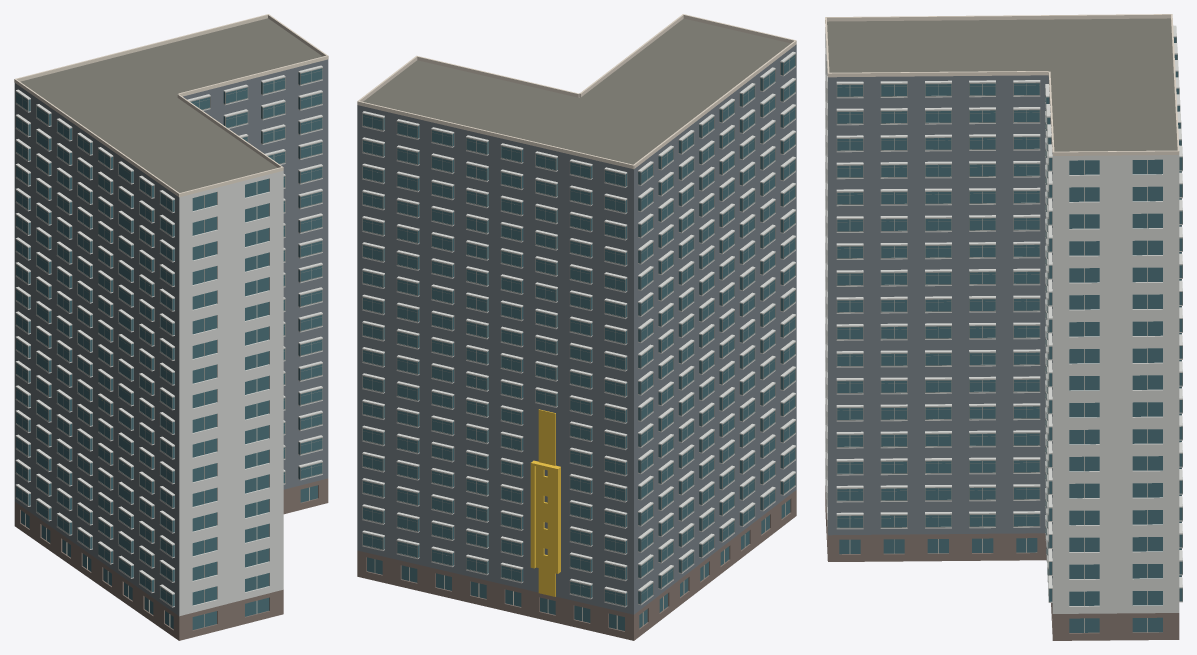
Rendered from chunk-dorm-way-1474800688.glb.
The picture shows the model from 3 angles, left to right: view 1: azimuth 30°, elevation 25°; view 2: azimuth 150°, elevation 25°; view 3: azimuth 270°, elevation 25°; orthographic projection. The views are drawn at different scales.
Parts seen in each view (by area): view 1: chunk-dorm-way-1474800688; view 2: chunk-dorm-way-1474800688; view 3: chunk-dorm-way-1474800688.
Part boxes in pixels (left/top/right/bottom): chunk-dorm-way-1474800688: left=14, top=14, right=328, bottom=640; chunk-dorm-way-1474800688: left=357, top=14, right=796, bottom=640; chunk-dorm-way-1474800688: left=825, top=14, right=1182, bottom=640.
Bounding box in the file's own units: 33.95 × 55.32 × 36.72.
